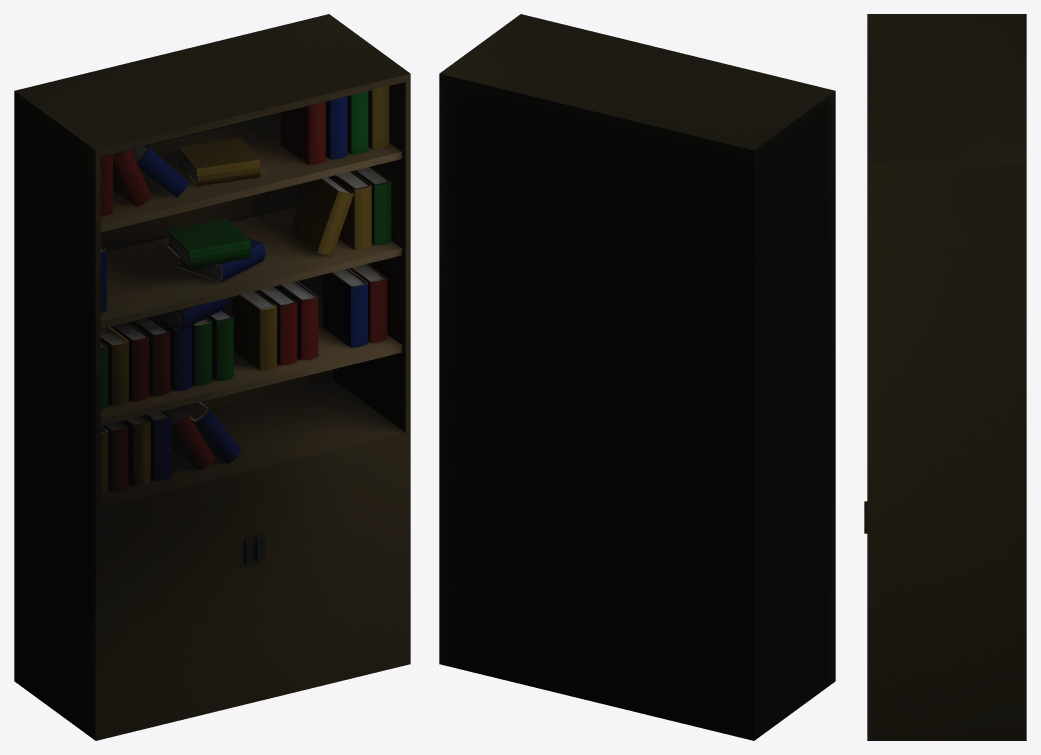
Rendered from 满书架.fbx.
The picture shows the model from 3 angles, left to right: view 1: azimuth 30°, elevation 25°; view 2: azimuth 150°, elevation 25°; view 3: azimuth 270°, elevation 25°; orthographic projection. The views are drawn at different scales.
Visible parts, largest first — view 1: 对象006, 对象005; view 2: 对象006; view 3: 对象006.
Part boxes in pixels (x1,y1,x2,y2): 对象006: [14, 14, 410, 740]; 对象005: [100, 86, 391, 494]; 对象006: [439, 14, 835, 740]; 对象006: [867, 14, 1026, 740].
Size of the model in its own units: 117 by 210 by 53.61.
Materials: 1 (1 with a texture image).
